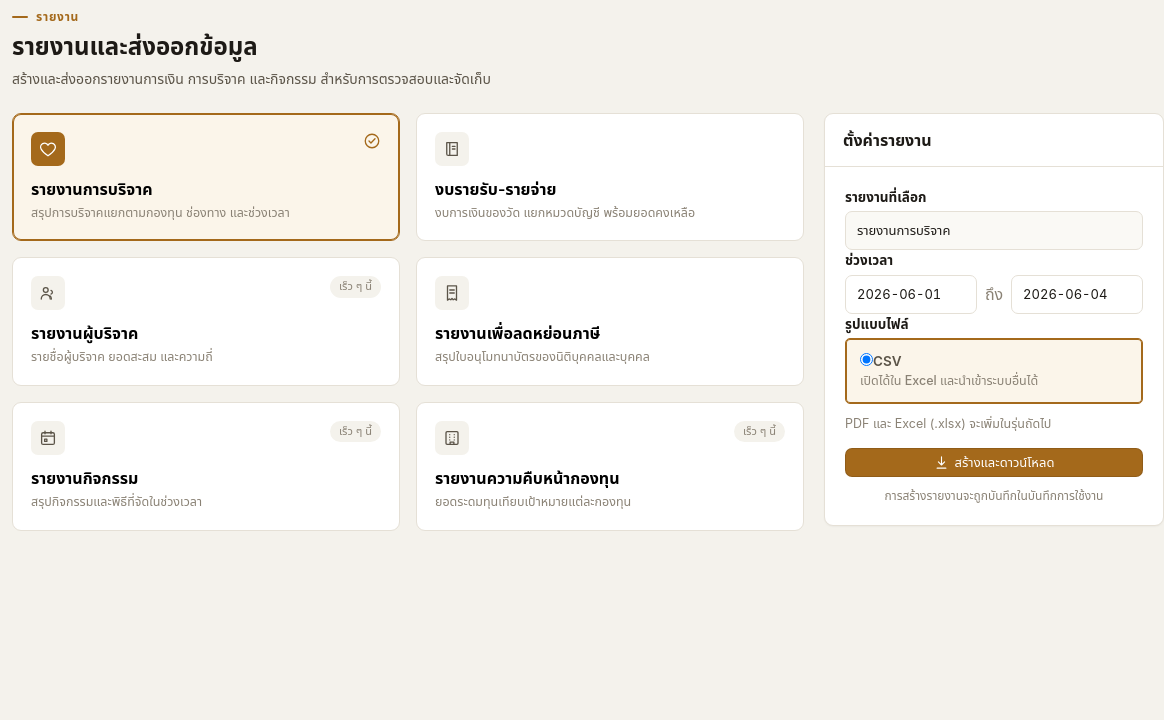
DesignReports — wired to /reports export › generates a CSV for the selected report via the real API
Click the button "สร้างและดาวน์โหลด". click: (994, 462)
box: 845,448 -> 1143,477
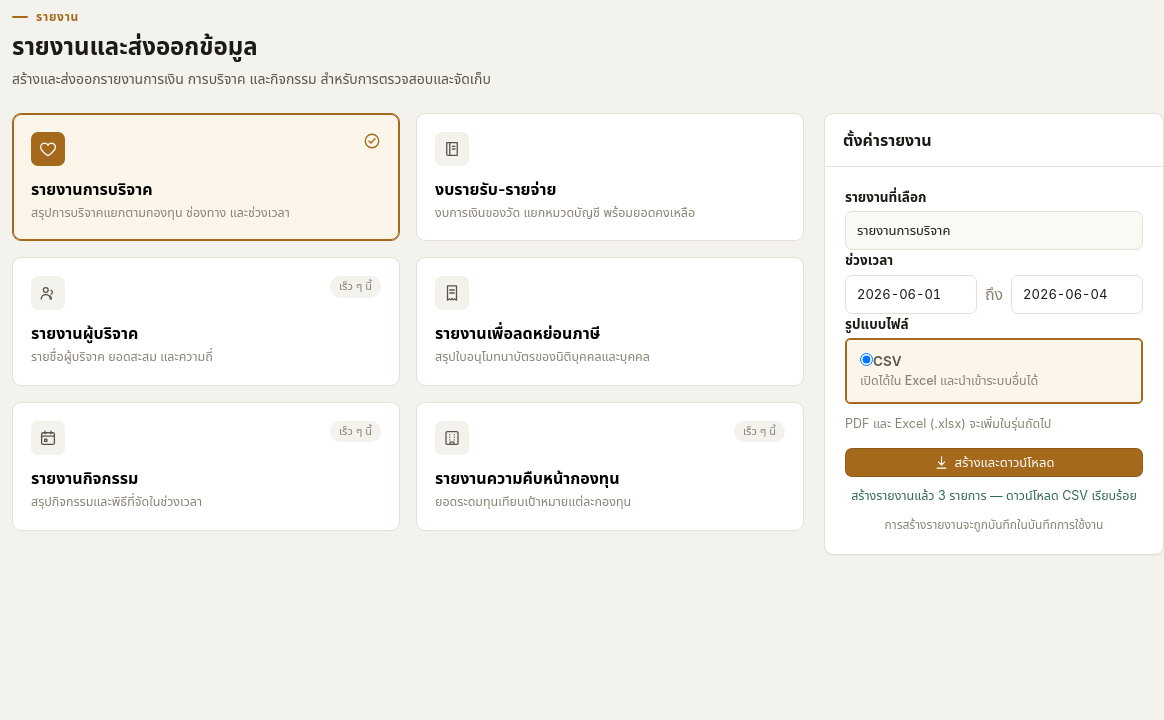
Expected: the text "สร้างรายงานแล้ว 3 รายการ" is shown, 851,488 -> 1137,503
